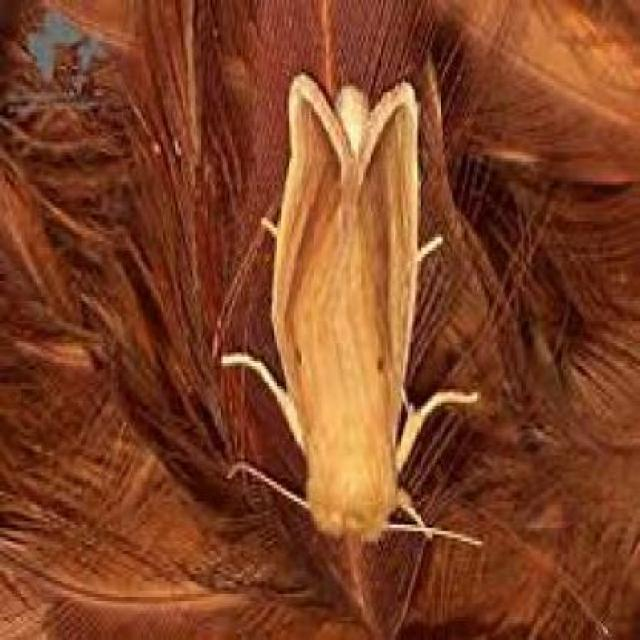stem-borer: (268, 68, 426, 544)
